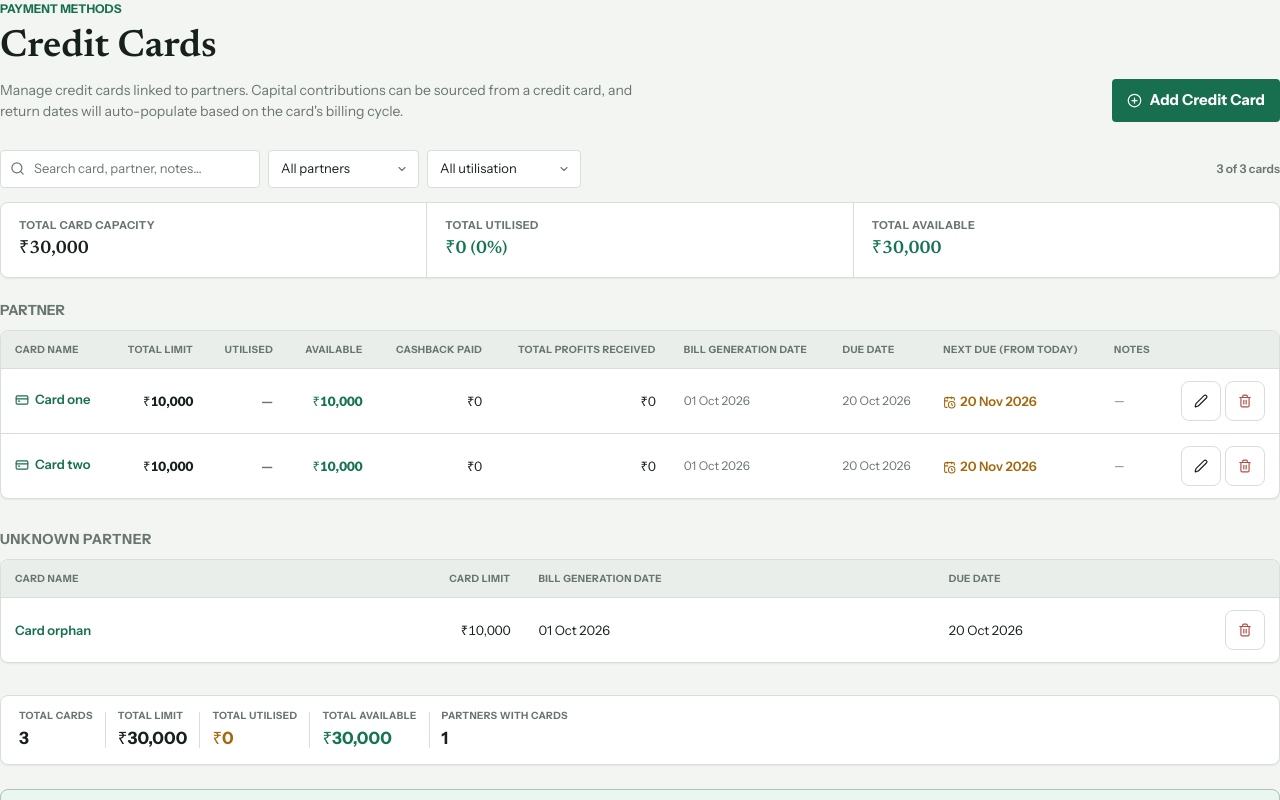
Test: shows only the selected card’s complete recorded history, by transaction date and same-day creation time
Click the button with aria-label "View transactions for Card one".
click(53, 400)  # box [15,390,90,410]
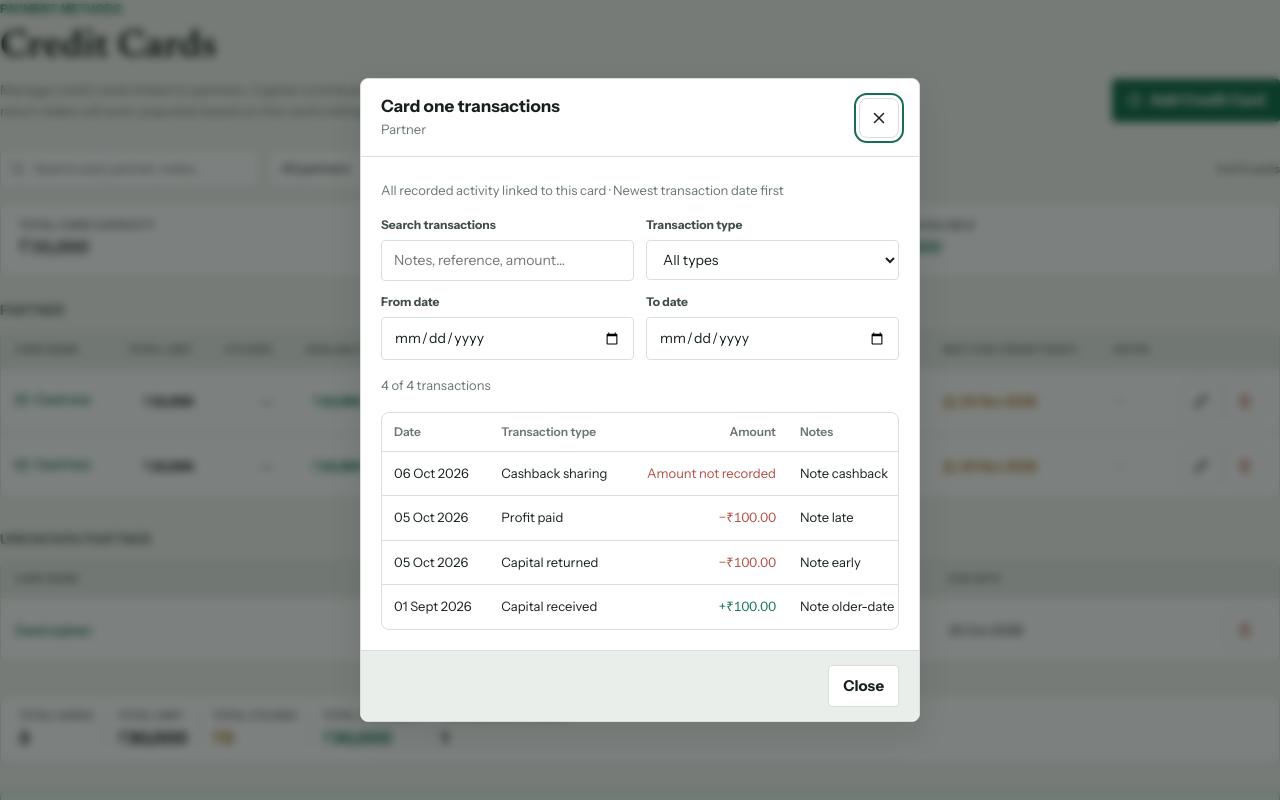
Expected: the text "Amount not recorded" is shown, [627,451,788,496]
